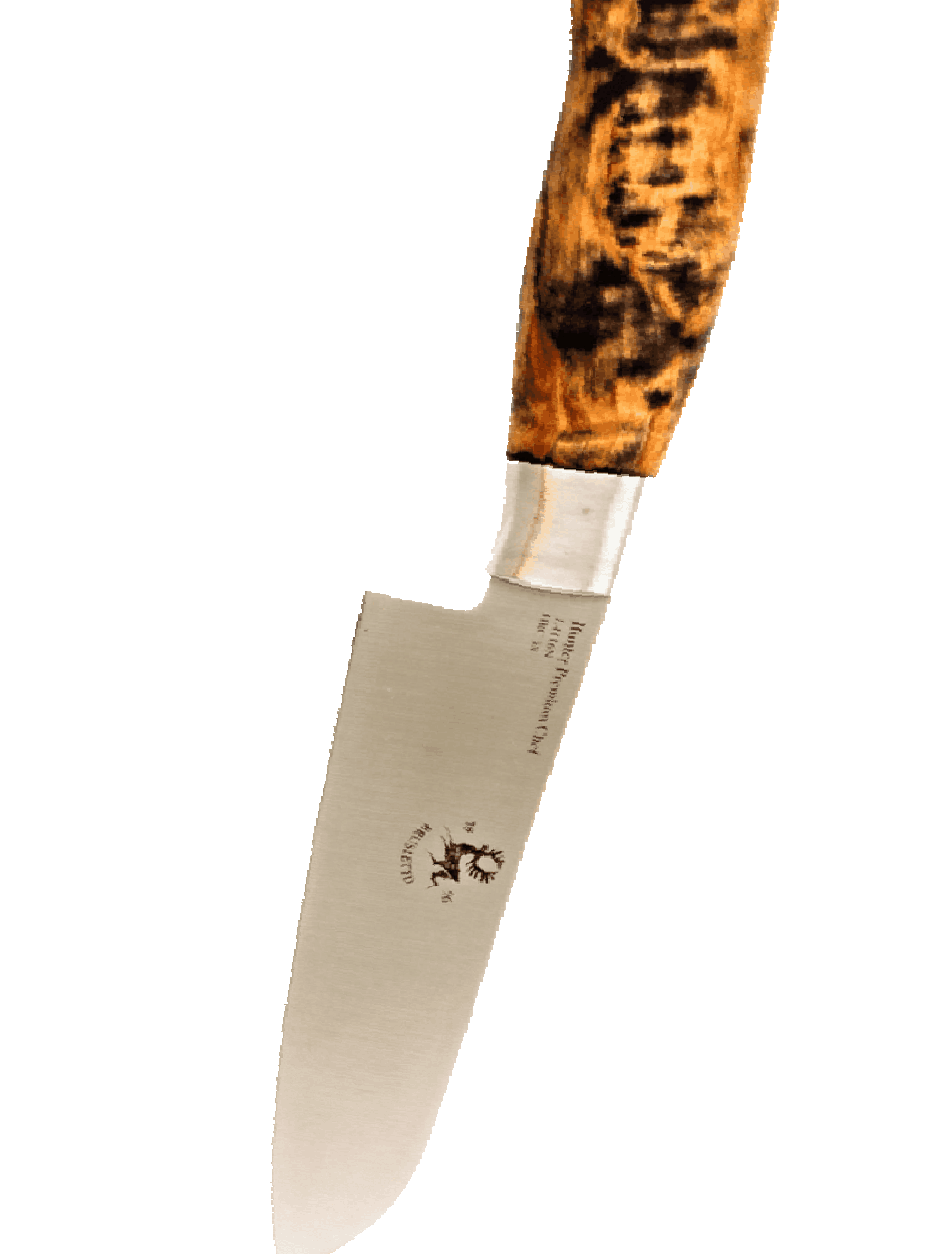knife: (280, 2, 773, 1254)
